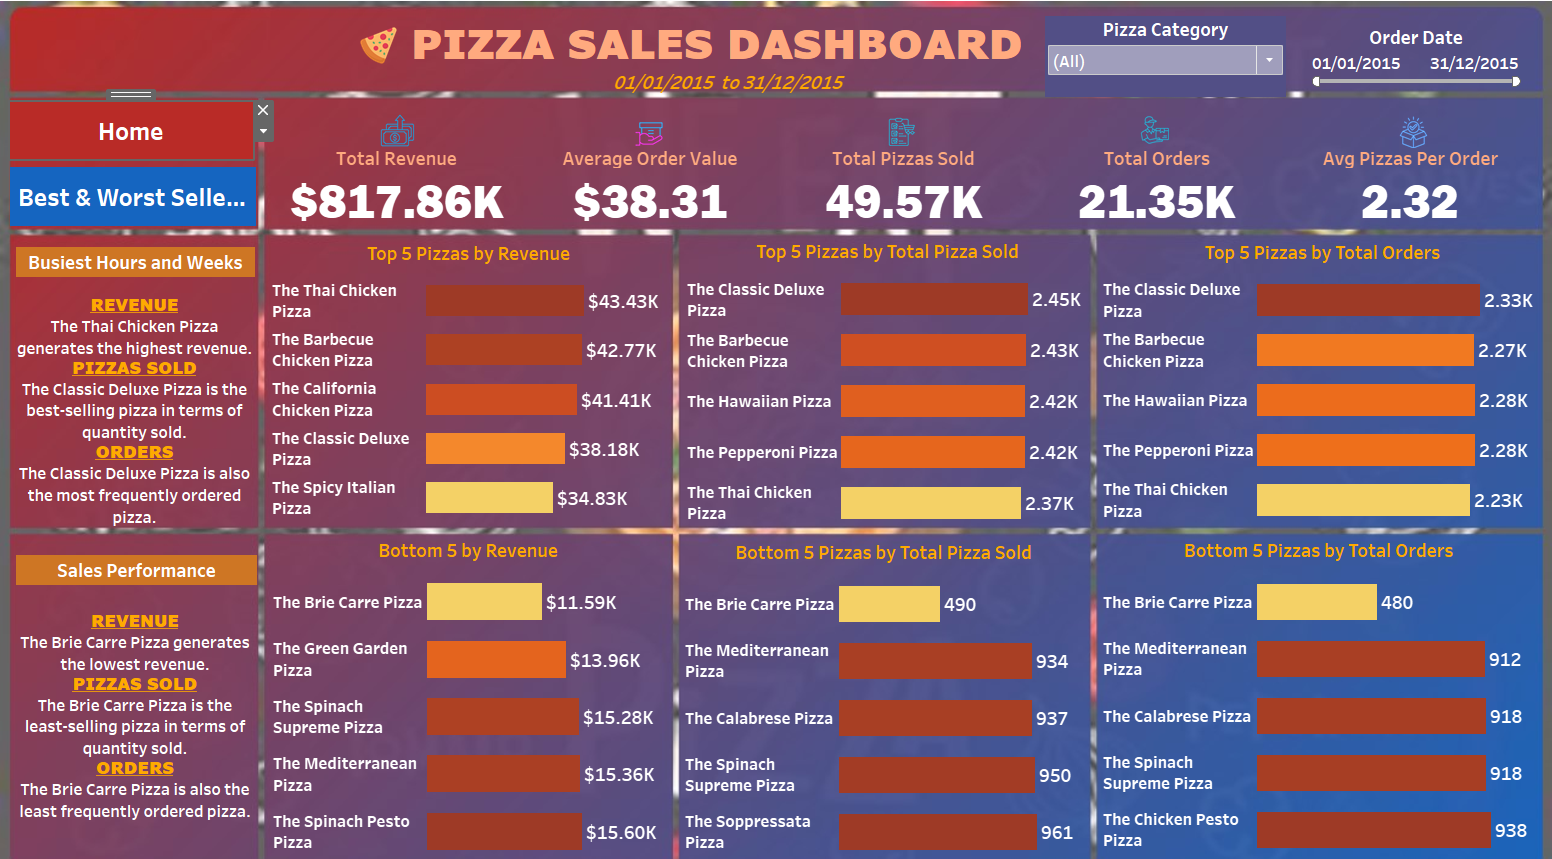

This screenshot's page, from the dashboard's own definition file:
{"tool":"tableau","page":{"name":"Best & Worst Sellers","canvas":[1600,900],"ordinal":0},"visuals":[{"type":"image","param":"C:/Users/yusuf/Downloads/Pizza 2.jpg","box":[8,8,1584,884]},{"type":"text","box":[430,25,636,58]},{"type":"filter","title":"Date Range","param":"[federated.1fpdtul0oztc8p1eyervt0r05s4z].[none:pizza_category:nk]","box":[1068,27,241,81]},{"type":"filter","title":"Date Range","param":"[federated.1fpdtul0oztc8p1eyervt0r05s4z].[none:order_date:qk]","box":[1330,35,218,69]},{"type":"image","param":"C:/Users/yusuf/Downloads/Pizza Sales Images/pizza-slice.png","box":[370,37,63,38]},{"type":"worksheet","title":"Date Range","mark":"Automatic","box":[554,79,395,28]},{"type":"dashboard-object","box":[33,113,243,57]},{"type":"image","param":"C:/Users/yusuf/Downloads/Pizza Sales Images/profit-growth.png","box":[401,122,41,38]},{"type":"image","param":"C:/Users/yusuf/Downloads/Pizza Sales Images/delivery-man.png","box":[1162,126,32,29]},{"type":"image","param":"C:/Users/yusuf/Downloads/Pizza Sales Images/order (1).png","box":[1420,127,32,33]},{"type":"image","param":"C:/Users/yusuf/Downloads/Pizza Sales Images/order-delivery.png","box":[910,128,29,29]},{"type":"image","param":"C:/Users/yusuf/Downloads/Pizza Sales Images/shipping-box.png","box":[655,129,34,31]},{"type":"worksheet","title":"KPI Banner","mark":"Automatic","box":[293,159,1267,87]},{"type":"dashboard-object","box":[33,178,246,59]},{"type":"worksheet","title":"Top 5 Pizzas by Total Pizza Sold","mark":"Automatic","rows":["pizza_name"],"cols":["Calculation_1866179114897395715"],"box":[704,245,413,294]},{"type":"worksheet","title":"Top 5 Pizzas by Total Orders","mark":"Automatic","rows":["pizza_name"],"cols":["Calculation_1866179114897002497"],"box":[1120,246,451,290]},{"type":"worksheet","title":"Top 5 Pizzas by Revenue","mark":"Automatic","rows":["pizza_name"],"cols":["Calculation_1866179114896470016"],"box":[289,247,405,286]},{"type":"text","box":[39,258,239,30]},{"type":"text","box":[36,290,243,268]},{"type":"worksheet","title":"Bottom 5 by Revenue","mark":"Automatic","rows":["pizza_name"],"cols":["Calculation_1866179114896470016"],"box":[290,544,402,327]},{"type":"worksheet","title":"Bottom 5 Pizzas by Total Orders ","mark":"Automatic","rows":["pizza_name"],"cols":["Calculation_1866179114897002497"],"box":[1120,544,447,325]},{"type":"worksheet","title":"Bottom 5 Pizzas by Total Pizza Sold","mark":"Automatic","rows":["pizza_name"],"cols":["Calculation_1866179114897395715"],"box":[702,546,409,325]},{"type":"text","box":[39,566,241,30]},{"type":"text","box":[38,595,240,268]}]}

Visuals, with their boxes in screenshot pixels (x1, y1, x2, y2), scaled from the page's 1600x900 canvas onto the 1552x859 screenshot:
image: [8,8,1544,851]
text: [417,24,1034,79]
"Date Range" filter: [1036,26,1270,103]
"Date Range" filter: [1290,33,1502,99]
image: [359,35,420,72]
"Date Range" worksheet: [537,75,921,102]
dashboard-object: [32,108,268,162]
image: [389,116,429,153]
image: [1127,120,1158,148]
image: [1377,121,1408,153]
image: [883,122,911,150]
image: [635,123,668,153]
"KPI Banner" worksheet: [284,152,1513,235]
dashboard-object: [32,170,271,226]
"Top 5 Pizzas by Total Pizza Sold" worksheet: [683,234,1083,514]
"Top 5 Pizzas by Total Orders" worksheet: [1086,235,1524,512]
"Top 5 Pizzas by Revenue" worksheet: [280,236,673,509]
text: [38,246,270,275]
text: [35,277,271,533]
"Bottom 5 by Revenue" worksheet: [281,519,671,831]
"Bottom 5 Pizzas by Total Orders " worksheet: [1086,519,1520,829]
"Bottom 5 Pizzas by Total Pizza Sold" worksheet: [681,521,1078,831]
text: [38,540,272,569]
text: [37,568,270,824]
